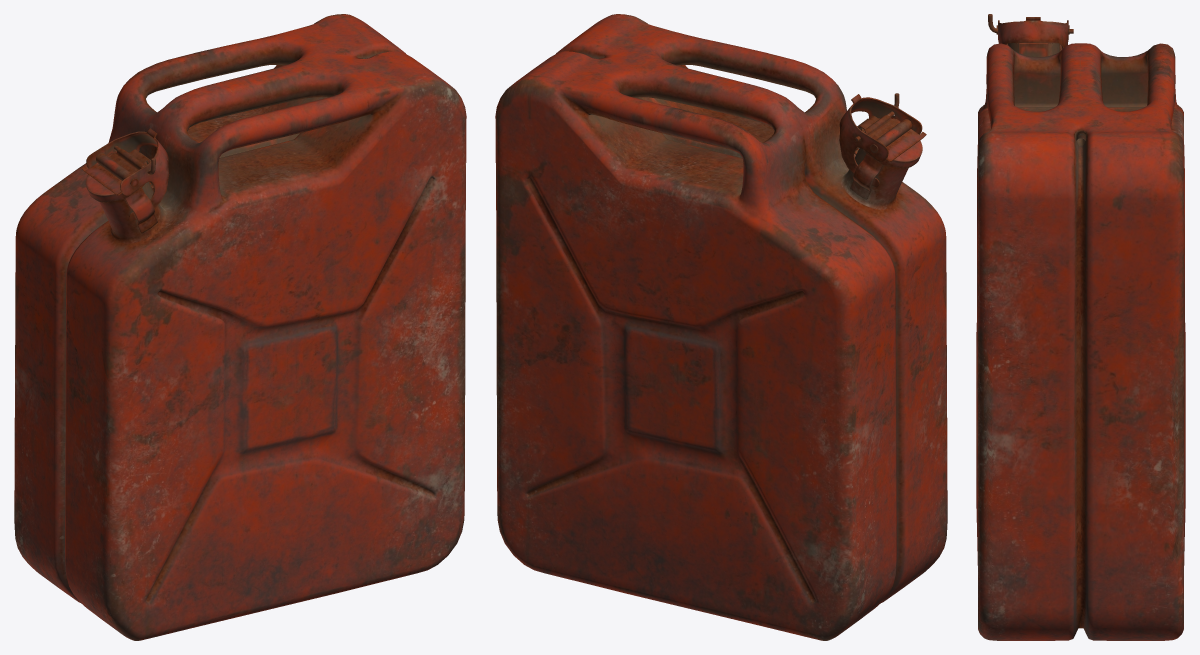
The picture shows the model from 3 angles, left to right: view 1: azimuth 30°, elevation 25°; view 2: azimuth 150°, elevation 25°; view 3: azimuth 270°, elevation 25°; orthographic projection. The views are drawn at different scales.
Visible parts, largest first — view 1: metal_jerrycan; view 2: metal_jerrycan; view 3: metal_jerrycan.
Part boxes in pixels (x1=…): metal_jerrycan: x1=14, y1=14, x2=466, y2=640; metal_jerrycan: x1=495, y1=14, x2=947, y2=640; metal_jerrycan: x1=976, y1=14, x2=1185, y2=640.
Size of the model in its own units: 0.3503 by 0.4552 by 0.1717.
1 material, 1 textured.
